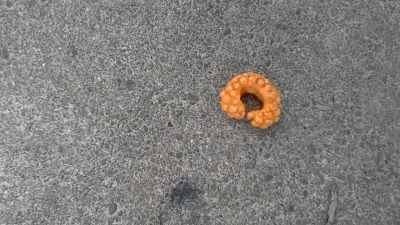eggs: (220, 71, 284, 129)
